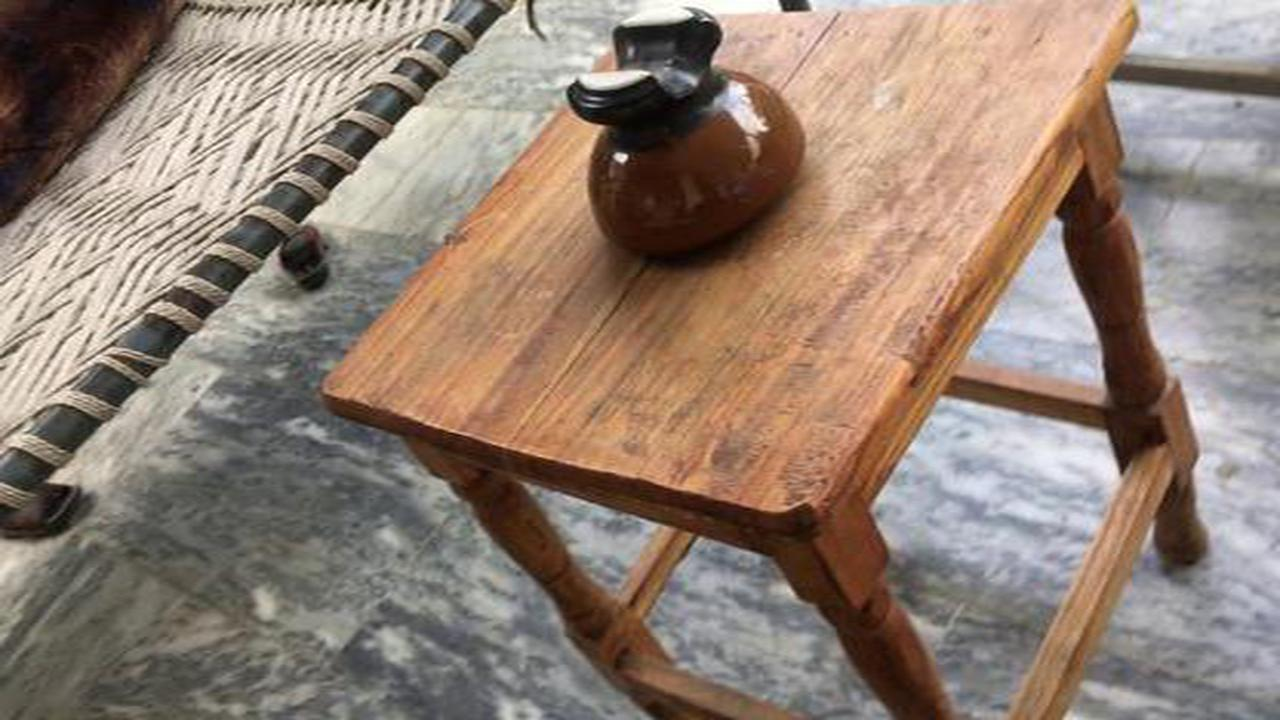insulator_pin: (554, 4, 831, 274)
